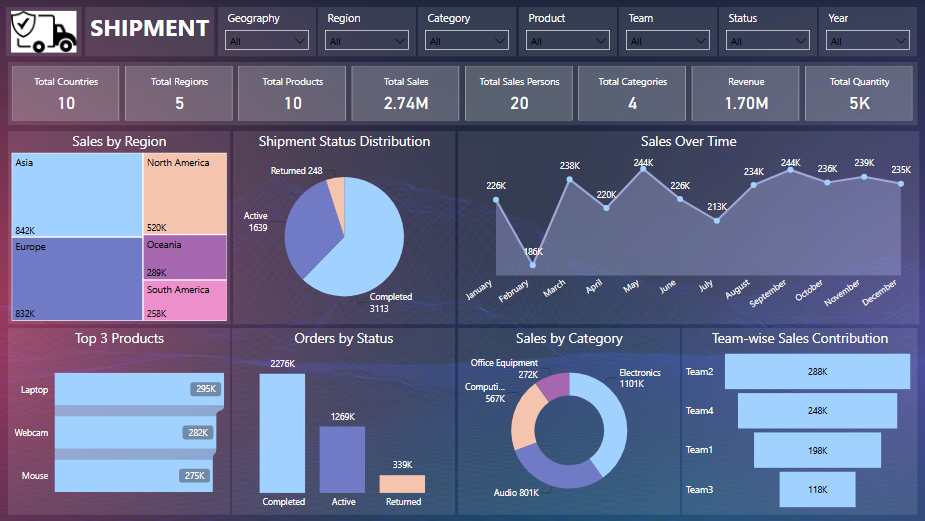

What the dashboard file says about the page in this screenshot:
{"tool":"powerbi","page":{"name":"Page 1","canvas":[1280,720],"ordinal":0},"visuals":[{"type":"textbox","box":[120,10.7,178.2,68.1],"z":0,"group":"g2"},{"type":"slicer","fields":{"Values":["ship Country.Geography"]},"box":[302.6,10.7,135.2,68.1],"z":1000,"group":"g1"},{"type":"cardVisual","fields":{"Data":["ship Country.Total Countries","ship Country.Total Regions","Shipment.Total Products","Shipment.Total Sales","shpiment  SalesPerson.Total SalesPersons","Ship ment Product (1).Total Categories","Shipment.Revenue","Shipment.Total Quantity"]},"box":[13.4,85.9,1251.9,86.9],"z":1000,"group":"g2"},{"type":"slicer","fields":{"Values":["Ship ment Product (1).Category"]},"box":[578.4,10.7,135.2,68.1],"z":2000,"group":"g1"},{"type":"treemap","title":"Sales by Region","fields":{"Group":["ship Country.Region"],"Values":["Sum(Shipment.Sales)"]},"box":[13.4,180.8,306.3,266],"z":2000,"group":"g2"},{"type":"slicer","fields":{"Values":["Ship ment Product (1).Product"]},"box":[716.3,10.7,135.2,68.1],"z":3000,"group":"g1"},{"type":"pieChart","title":"Shipment Status Distribution","fields":{"Category":["Shipment.Status"],"Y":["CountNonNull(Shipment.Shipment ID)"]},"box":[323.2,180.8,306.3,266],"z":3000,"group":"g2"},{"type":"slicer","fields":{"Values":["shpiment  SalesPerson.Team"]},"box":[854.2,10.7,135.2,68.1],"z":4000,"group":"g1"},{"type":"lineChart","title":"Sales Over Time","fields":{"Y":["Sum(Shipment.Sales)"],"Category":["Shipment.Date.Variation.Date Hierarchy.Month"]},"box":[632.2,180.8,634.9,266],"z":4000,"group":"g2"},{"type":"slicer","fields":{"Values":["Shipment.Status"]},"box":[992.2,10.7,135.2,68.1],"z":5000,"group":"g1"},{"type":"donutChart","title":"Sales by Category","fields":{"Y":["Sum(Shipment.Sales)"],"Category":["Ship ment Product (1).Category"]},"box":[632.2,453.1,306.3,257],"z":5000,"group":"g2"},{"type":"slicer","fields":{"Values":["ship Country.Region"]},"box":[440.5,10.7,135.2,68.1],"z":6000,"group":"g1"},{"type":"barChart","title":"Top 3 Products","fields":{"Category":["Ship ment Product (1).Product"],"Y":["Sum(Shipment.Sales)"]},"box":[13.4,453.1,306.3,257],"z":6000,"group":"g2"},{"type":"funnel","title":"Team-wise Sales Contribution","fields":{"Category":["shpiment  SalesPerson.Team"],"Y":["Sum(Shipment.Sales)"]},"box":[941.1,453.1,324.2,257],"z":7000,"group":"g2"},{"type":"columnChart","title":"Orders by Status","fields":{"Category":["Shipment.Status"],"Y":["Sum(Shipment.Shipment ID)"]},"box":[322.3,453.1,307.2,257],"z":8000,"group":"g2"},{"type":"group","id":"g1","title":"Group 1","box":[302.6,10.7,962.7,68.1],"z":9000,"group":"g2"},{"type":"image","box":[10.7,10.7,103.9,68.1],"z":10000,"group":"g2"},{"type":"group","id":"g2","title":"Group 2","box":[10.7,10.7,1256.4,699.4],"z":10001},{"type":"slicer","fields":{"Values":["Shipment.Year"]},"box":[1130.1,10.7,135.2,68.1],"z":11004,"group":"g1"}]}

Visuals, with their boxes in screenshot pixels (x1, y1, x2, y2), scaled from the page's 1280x720 canvas onto the 925x521 screenshot:
textbox: {"x1": 87, "y1": 8, "x2": 215, "y2": 57}
slicer - ship Country.Geography: {"x1": 219, "y1": 8, "x2": 316, "y2": 57}
cardVisual - ship Country.Total Countries x ship Country.Total Regions: {"x1": 10, "y1": 62, "x2": 914, "y2": 125}
slicer - Ship ment Product (1).Category: {"x1": 418, "y1": 8, "x2": 516, "y2": 57}
"Sales by Region" treemap: {"x1": 10, "y1": 131, "x2": 231, "y2": 323}
slicer - Ship ment Product (1).Product: {"x1": 518, "y1": 8, "x2": 615, "y2": 57}
"Shipment Status Distribution" pieChart: {"x1": 234, "y1": 131, "x2": 455, "y2": 323}
slicer - shpiment  SalesPerson.Team: {"x1": 617, "y1": 8, "x2": 715, "y2": 57}
"Sales Over Time" lineChart: {"x1": 457, "y1": 131, "x2": 916, "y2": 323}
slicer - Shipment.Status: {"x1": 717, "y1": 8, "x2": 815, "y2": 57}
"Sales by Category" donutChart: {"x1": 457, "y1": 328, "x2": 678, "y2": 514}
slicer - ship Country.Region: {"x1": 318, "y1": 8, "x2": 416, "y2": 57}
"Top 3 Products" barChart: {"x1": 10, "y1": 328, "x2": 231, "y2": 514}
"Team-wise Sales Contribution" funnel: {"x1": 680, "y1": 328, "x2": 914, "y2": 514}
"Orders by Status" columnChart: {"x1": 233, "y1": 328, "x2": 455, "y2": 514}
"Group 1" group: {"x1": 219, "y1": 8, "x2": 914, "y2": 57}
image: {"x1": 8, "y1": 8, "x2": 83, "y2": 57}
"Group 2" group: {"x1": 8, "y1": 8, "x2": 916, "y2": 514}
slicer - Shipment.Year: {"x1": 817, "y1": 8, "x2": 914, "y2": 57}
